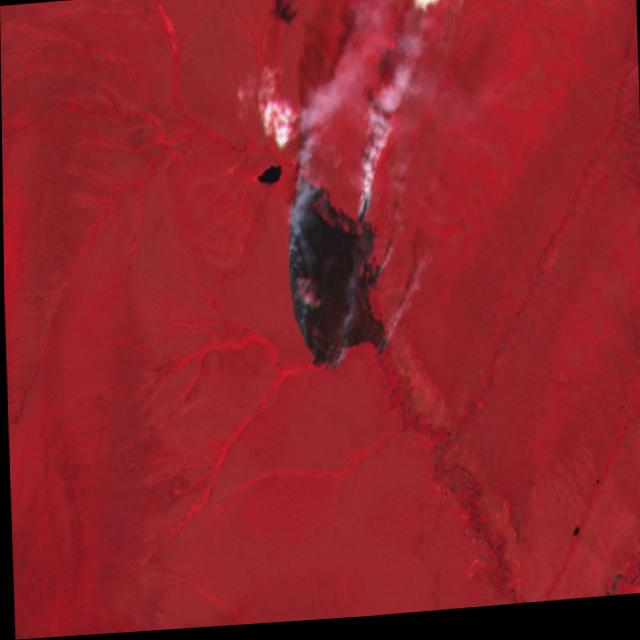fire: (276, 167, 396, 384)
